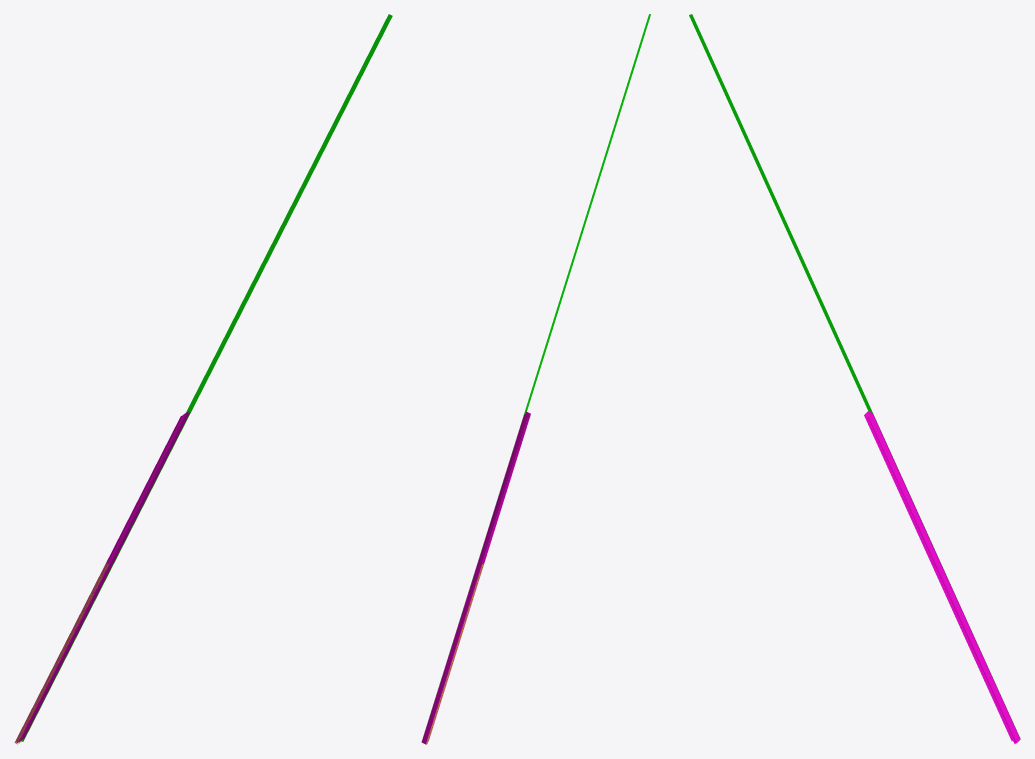
Rendered from NoLod_0.glb.
The picture shows the model from 3 angles, left to right: view 1: azimuth 90°, elevation 25°; view 2: azimuth 150°, elevation 25°; view 3: azimuth 270°, elevation 25°; orthographic projection. The views are drawn at different scales.
Parts seen in each view (by area): view 1: rtc; view 2: rtc; view 3: rtc.
Part boxes in pixels (bbox=[...]): rtc: bbox=[14, 14, 392, 744]; rtc: bbox=[421, 14, 650, 744]; rtc: bbox=[689, 14, 1020, 743].
Bounding box in the file's own units: 1189 × 8787 × 3899.
